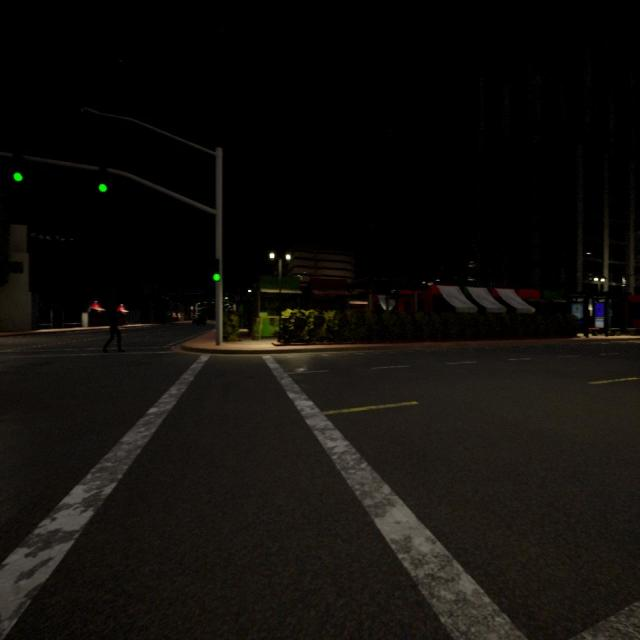Pedestrian: (102, 304, 126, 354)
traffic_light: (13, 155, 23, 182), (99, 167, 108, 193), (212, 258, 220, 282)
